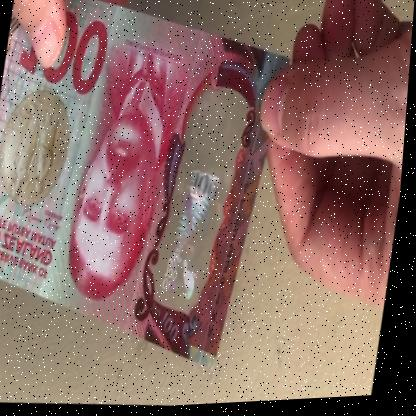100F: (158, 98, 243, 309)
